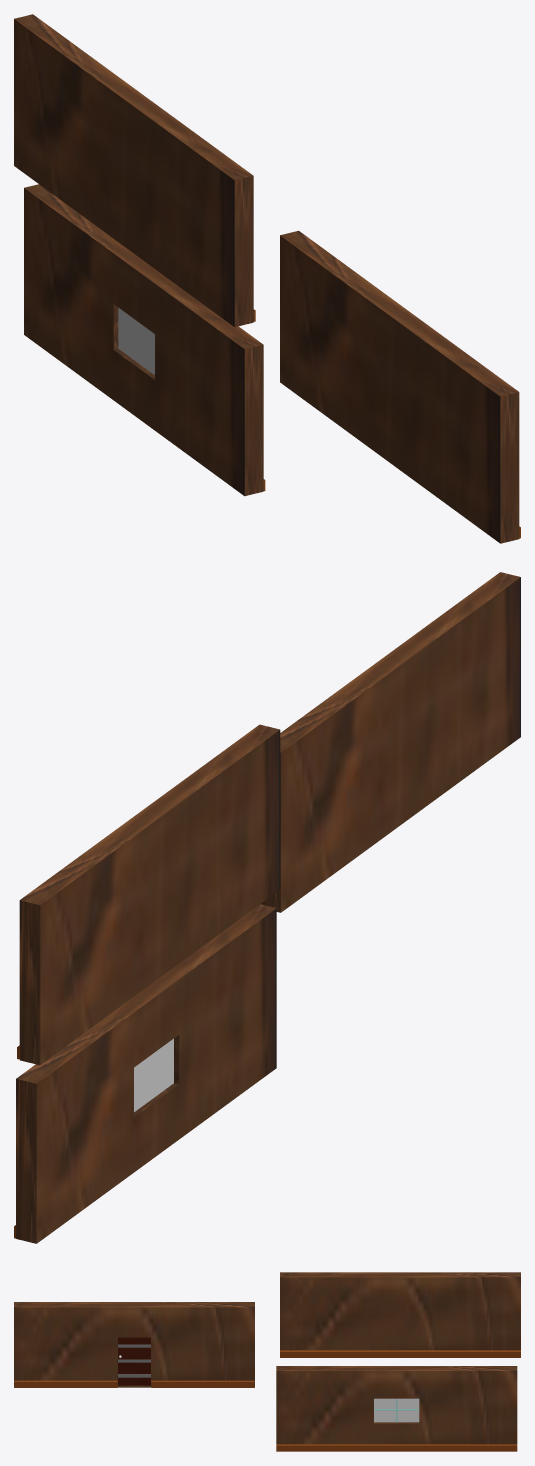
File: Walls.fbx
3 views of the same model, one above another, from view 1: azimuth 30°, elevation 25°; view 2: azimuth 150°, elevation 25°; view 3: azimuth 270°, elevation 25° (orthographic). The views are drawn at different scales.
Parts seen in each view (by area): view 1: Wall, WallDoor, WallWindow; view 2: Wall, WallWindow, WallDoor; view 3: WallWindow, Wall, WallDoor.
Part boxes in pixels (box(x1,y1,x2,y2)): Wall: box(14, 14, 255, 327); WallDoor: box(280, 230, 520, 543); WallWindow: box(24, 184, 265, 496); Wall: box(17, 724, 280, 1065); WallWindow: box(14, 904, 276, 1243); WallDoor: box(261, 572, 520, 912); WallWindow: box(276, 1366, 517, 1451); Wall: box(280, 1272, 520, 1357); WallDoor: box(14, 1302, 254, 1387).
Bounding box in the file's own units: 456 × 3179 × 8484.
